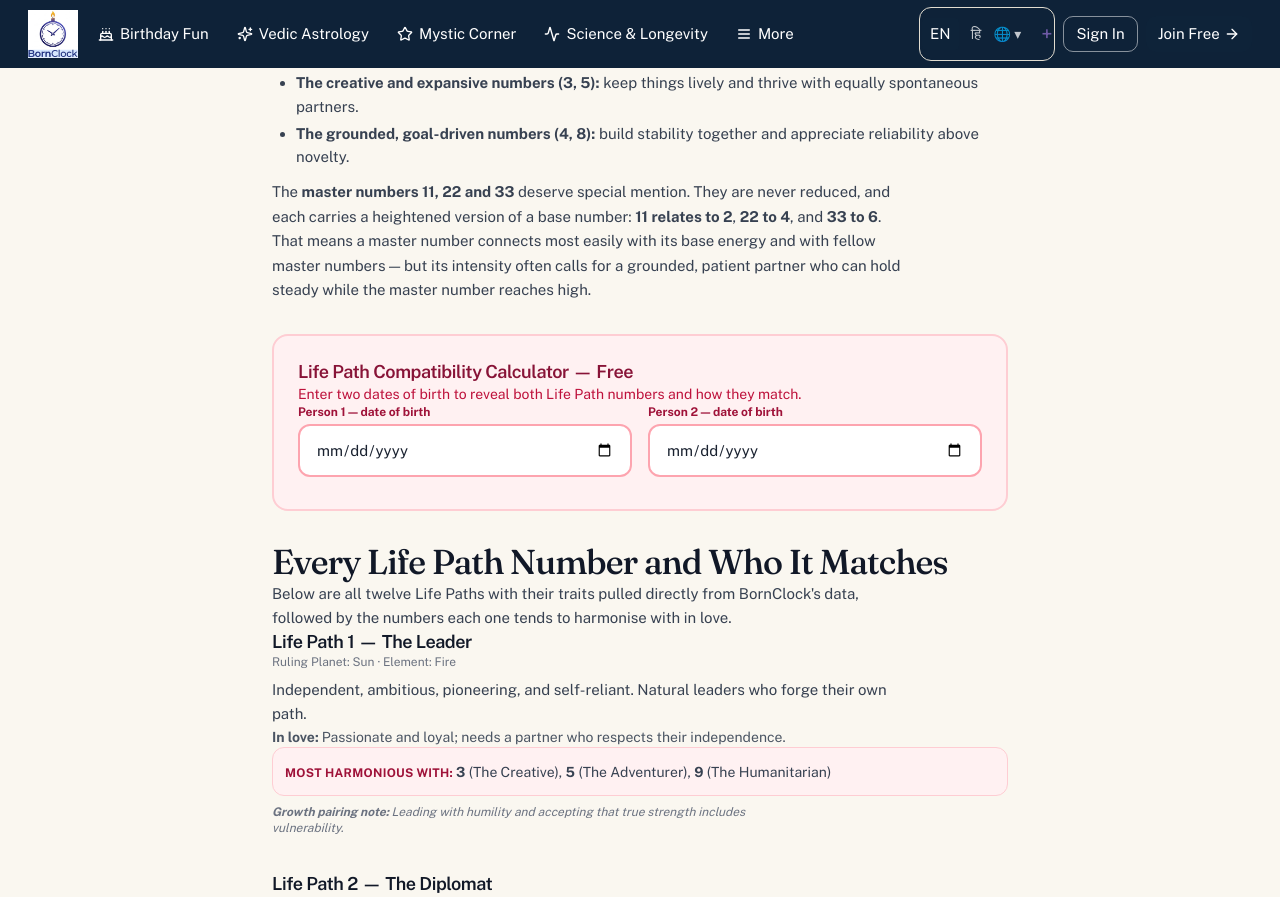
LifePathCompatibilityArticle › TC-LPC-P-06: entering two DOBs shows both results
(page scrolled)
Type "1973-03-28" into the date field labelled "Person 1 — date of birth" at (465, 450), box [298,424,632,477]
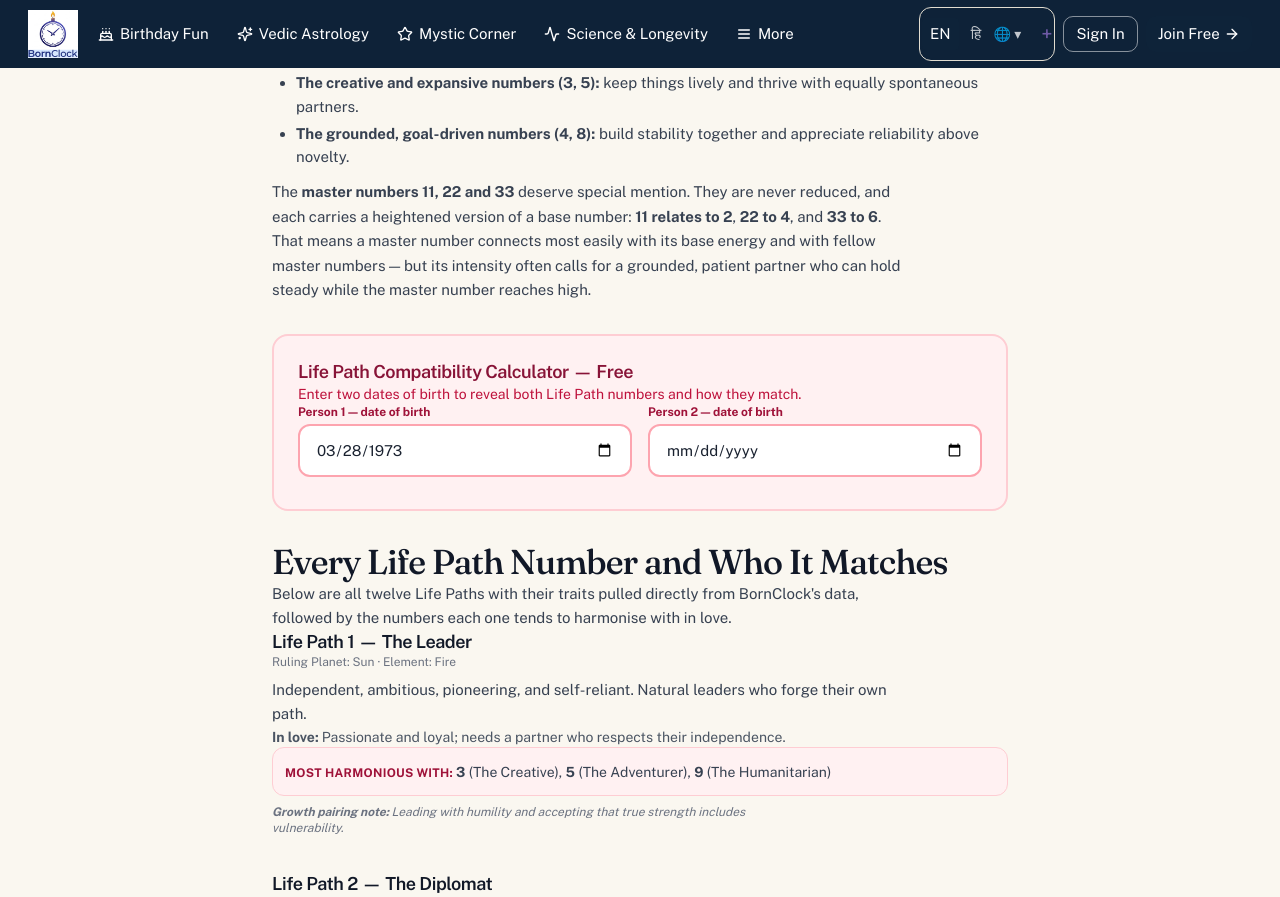
Type "1990-01-01" into the date field labelled "Person 2 — date of birth" at (815, 450), box [648,424,982,477]
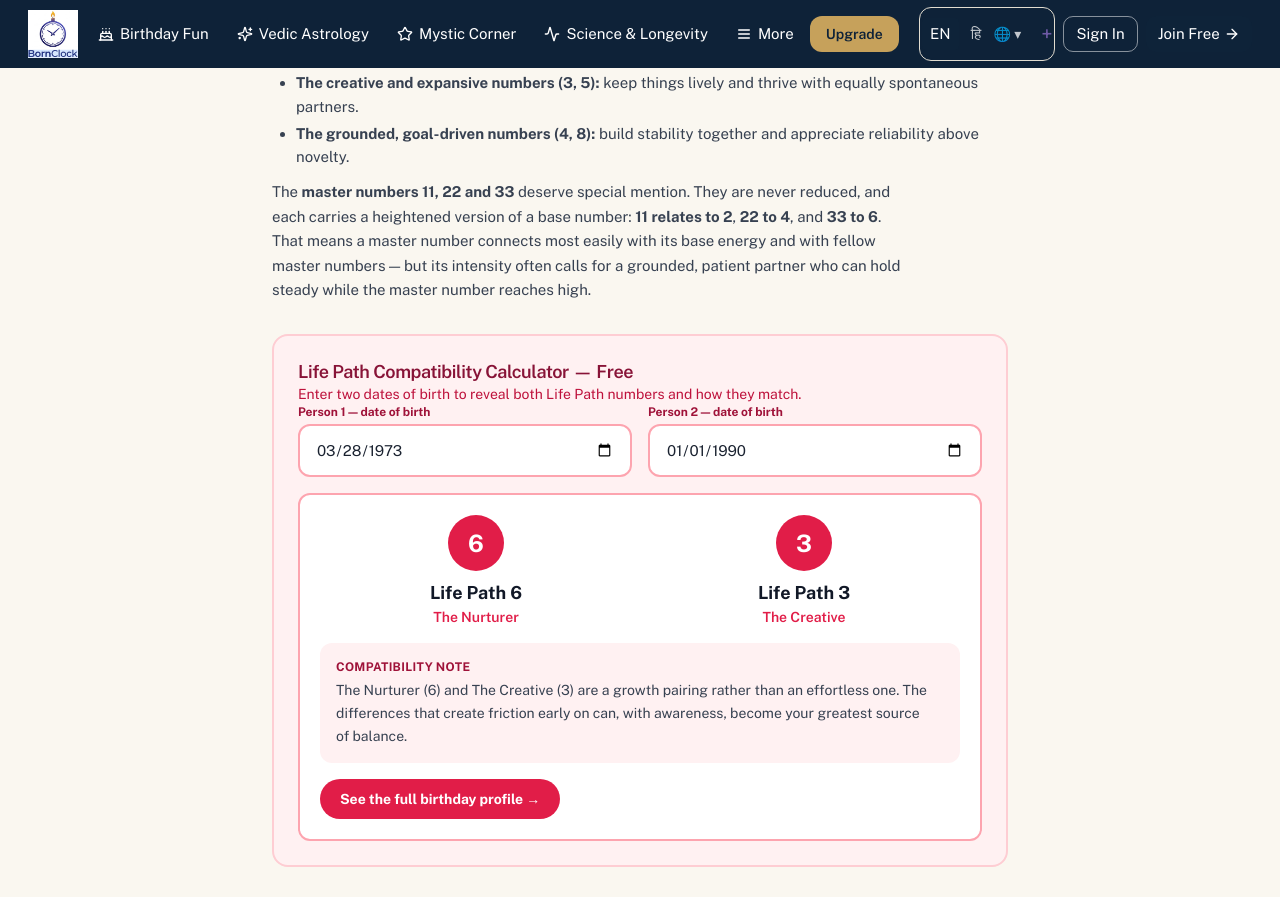
Check: the element with test id "lp-compat-result" is shown, box [298,493,982,841]
Check: the element with test id "lp-compat-result" shows "Life Path", box [430,582,510,603]
